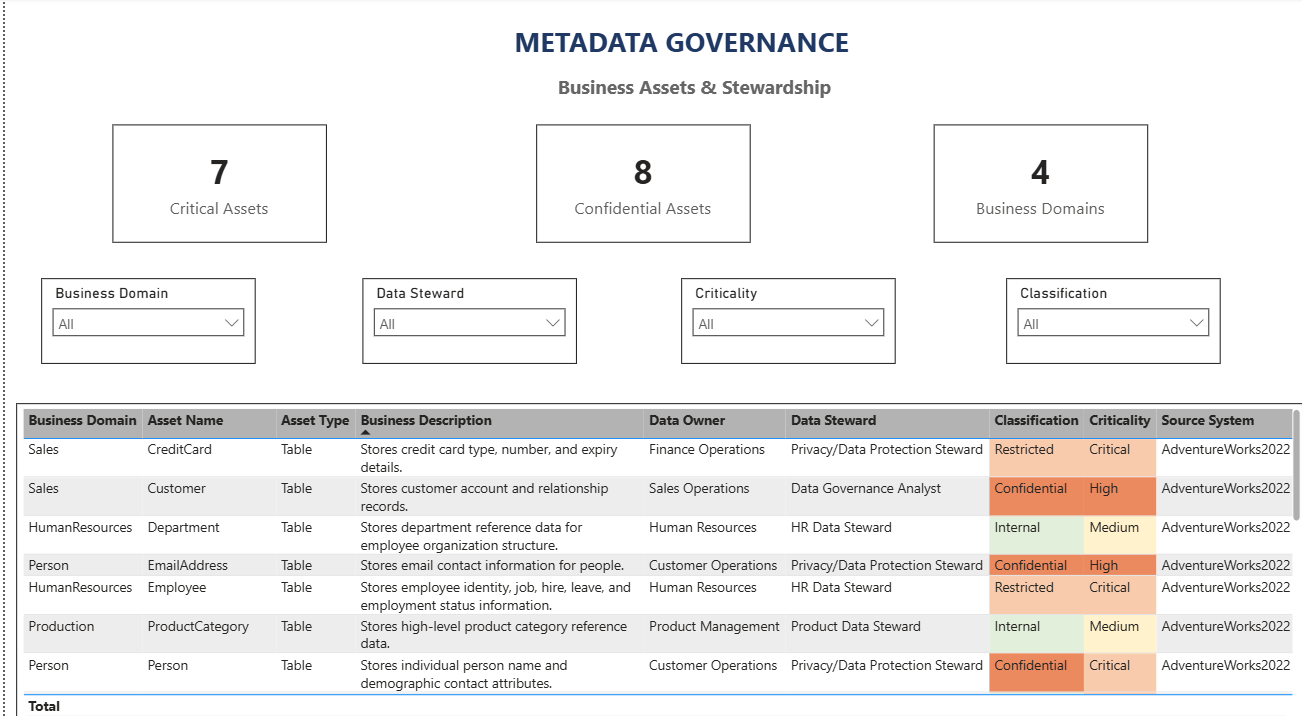

What the dashboard file says about the page in this screenshot:
{"tool":"powerbi","page":{"name":"Bussiness Assets & Stewardship","canvas":[1280,720],"ordinal":1},"visuals":[{"type":"textbox","box":[224.3,21.4,879.2,48.1],"z":0},{"type":"card","fields":{"Values":["DataAsset.Critical Assets"]},"box":[105,124.6,210,115.7],"z":1000},{"type":"card","fields":{"Values":["DataAsset.Confidential Assets"]},"box":[521.5,124.6,210,115.7],"z":2000},{"type":"card","fields":{"Values":["DataAsset.Business Domains"]},"box":[911.3,124.6,210,115.7],"z":3000},{"type":"slicer","fields":{"Values":["DataAsset.BusinessDomain"]},"box":[35.6,275.9,210,83.6],"z":4000},{"type":"slicer","fields":{"Values":["DataAsset.DataSteward"]},"box":[350.6,275.9,210,83.6],"z":5000},{"type":"slicer","fields":{"Values":["DataAsset.Criticality"]},"box":[663.9,275.9,210,83.6],"z":6000},{"type":"slicer","fields":{"Values":["DataAsset.Classification"]},"box":[982.4,275.9,210,83.6],"z":7000},{"type":"textbox","box":[179.8,69.4,993.1,35.6],"z":8000},{"type":"tableEx","fields":{"Values":["DataAsset.BusinessDomain","DataAsset.AssetName","DataAsset.AssetType","DataAsset.BusinessDescription","DataAsset.DataOwner","DataAsset.DataSteward","DataAsset.Classification","DataAsset.Criticality","DataAsset.SourceSystem"]},"box":[11.5,398.2,1268.2,321.7],"z":9000}]}

Visuals, with their boxes in screenshot pixels (x1, y1, x2, y2), scaled from the page's 1280x720 canvas onto the 1302x716 screenshot:
textbox: 228,21,1122,69
card - DataAsset.Critical Assets: 107,124,320,239
card - DataAsset.Confidential Assets: 530,124,744,239
card - DataAsset.Business Domains: 927,124,1141,239
slicer - DataAsset.BusinessDomain: 36,274,250,358
slicer - DataAsset.DataSteward: 357,274,570,358
slicer - DataAsset.Criticality: 675,274,889,358
slicer - DataAsset.Classification: 999,274,1213,358
textbox: 183,69,1193,104
tableEx - DataAsset.BusinessDomain x DataAsset.AssetName: 12,396,1301,715
